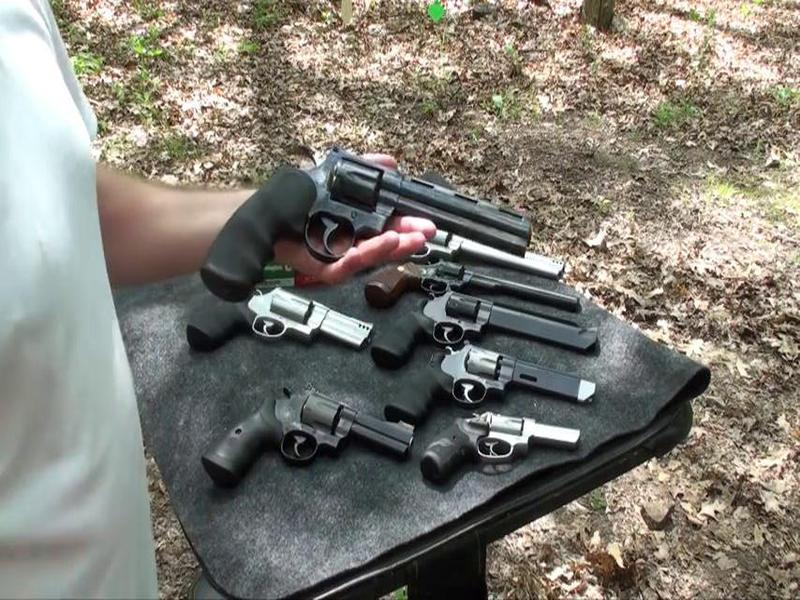Revolver: (213, 137, 527, 321)
